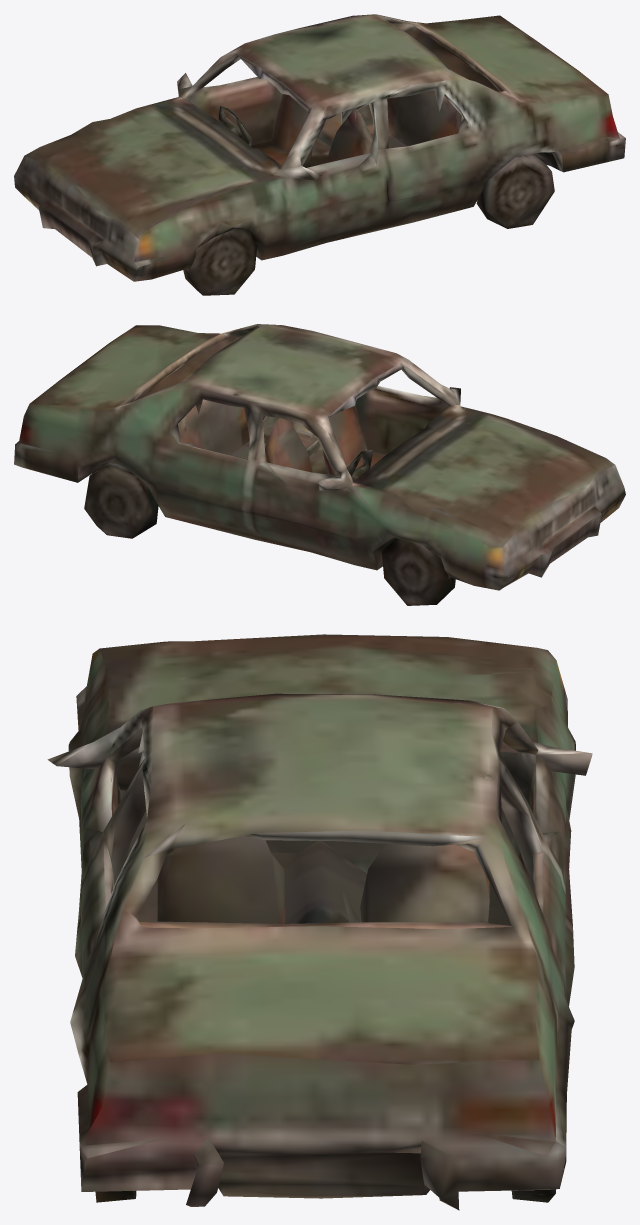
Rendered from car-web.glb.
3 renders of one model, top to bottom at view 1: azimuth 30°, elevation 25°; view 2: azimuth 150°, elevation 25°; view 3: azimuth 270°, elevation 25°, orthographic. The views are drawn at different scales.
Parts seen in each view (by area): view 1: Mesh_0; view 2: Mesh_0; view 3: Mesh_0.
Boxes of the visible parts, x1,y1,x2,y2 form: Mesh_0: (14,14,625,295); Mesh_0: (14,324,625,605); Mesh_0: (47,634,592,1210).
Size of the model in its own units: 1.92 by 0.5895 by 0.8925.
1 material, 1 textured.
